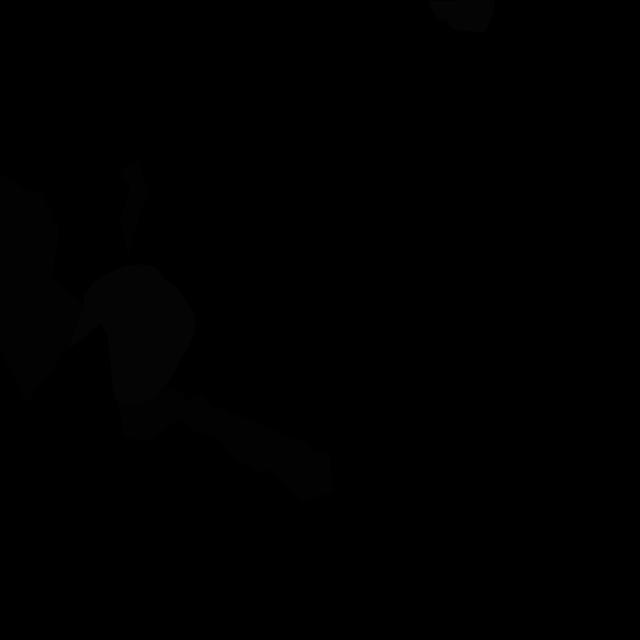cardboard: (0, 175, 84, 404), (171, 387, 333, 501), (117, 384, 178, 441), (118, 160, 149, 255)
soft_plastic: (67, 264, 196, 406), (427, 0, 494, 32)
